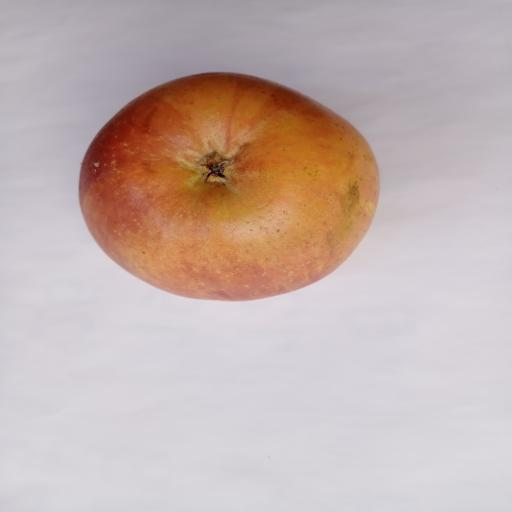apple-ripe: (58, 65, 391, 313)
